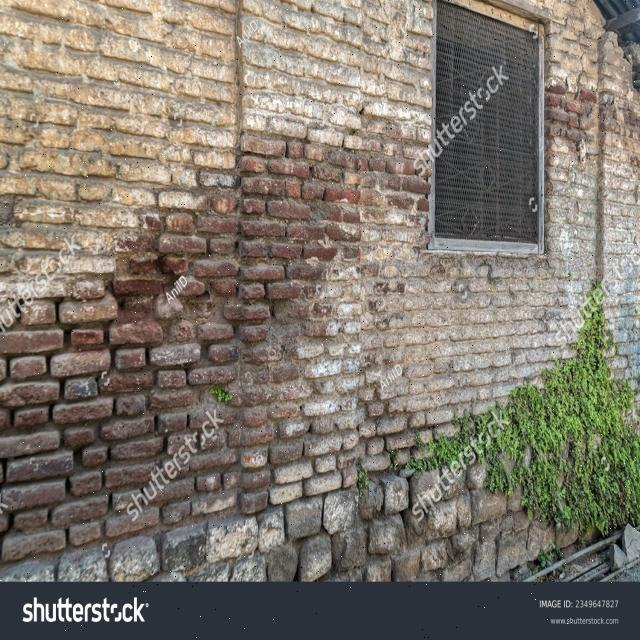vegetation: (410, 307, 640, 575)
